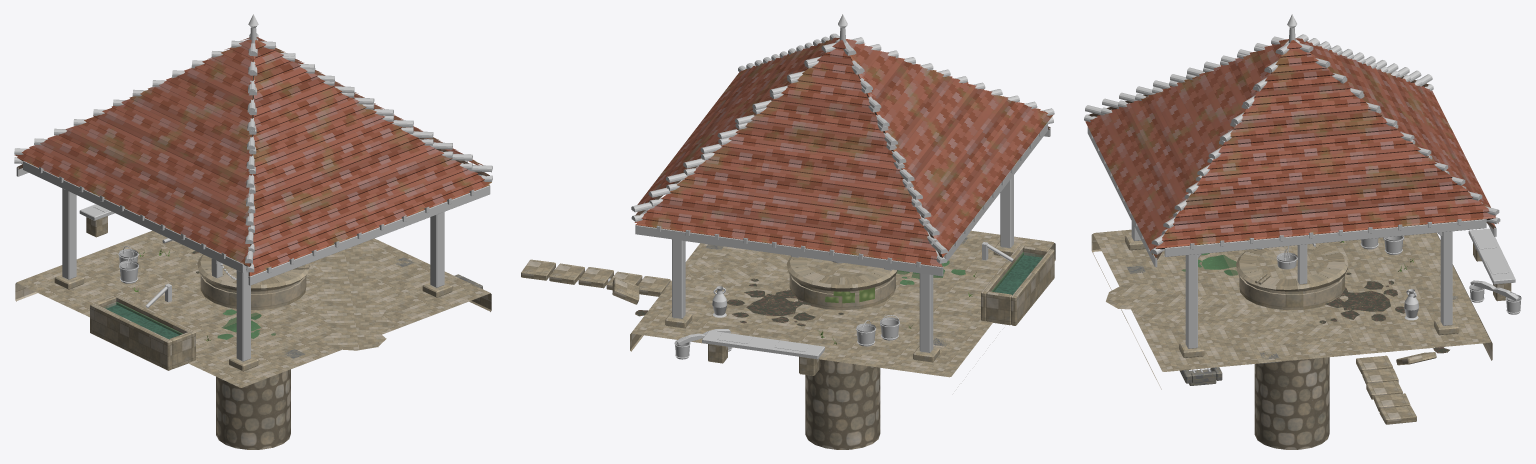
The model's file is wellhouse.gltf.
3 views of the same model, side by side, from view 1: azimuth 30°, elevation 25°; view 2: azimuth 150°, elevation 25°; view 3: azimuth 270°, elevation 25° (orthographic).
Parts seen in each view (by area): view 1: wellhouse#n1_n1, wellhouse#0_n1, wellhouse#0_0, wellhouse#n1_0; view 2: wellhouse#n1_n1, wellhouse#0_n1, wellhouse#0_0; view 3: wellhouse#n1_n1, wellhouse#0_n1, wellhouse#0_0, wellhouse#n1_0.
Boxes of the visible parts, x1,y1,x2,y2 form: wellhouse#n1_n1: (14,37,491,361); wellhouse#0_n1: (15,14,491,387); wellhouse#0_0: (14,33,492,449); wellhouse#n1_0: (116,302,275,339); wellhouse#n1_n1: (634,37,1053,359); wellhouse#0_n1: (521,14,1055,377); wellhouse#0_0: (631,33,1054,449); wellhouse#n1_n1: (1085,38,1521,348); wellhouse#0_n1: (1091,14,1521,424); wellhouse#0_0: (1084,34,1500,449); wellhouse#n1_0: (1181,249,1257,275).
Bounding box in the file's own units: 9.74 × 8.9 × 8.4.
